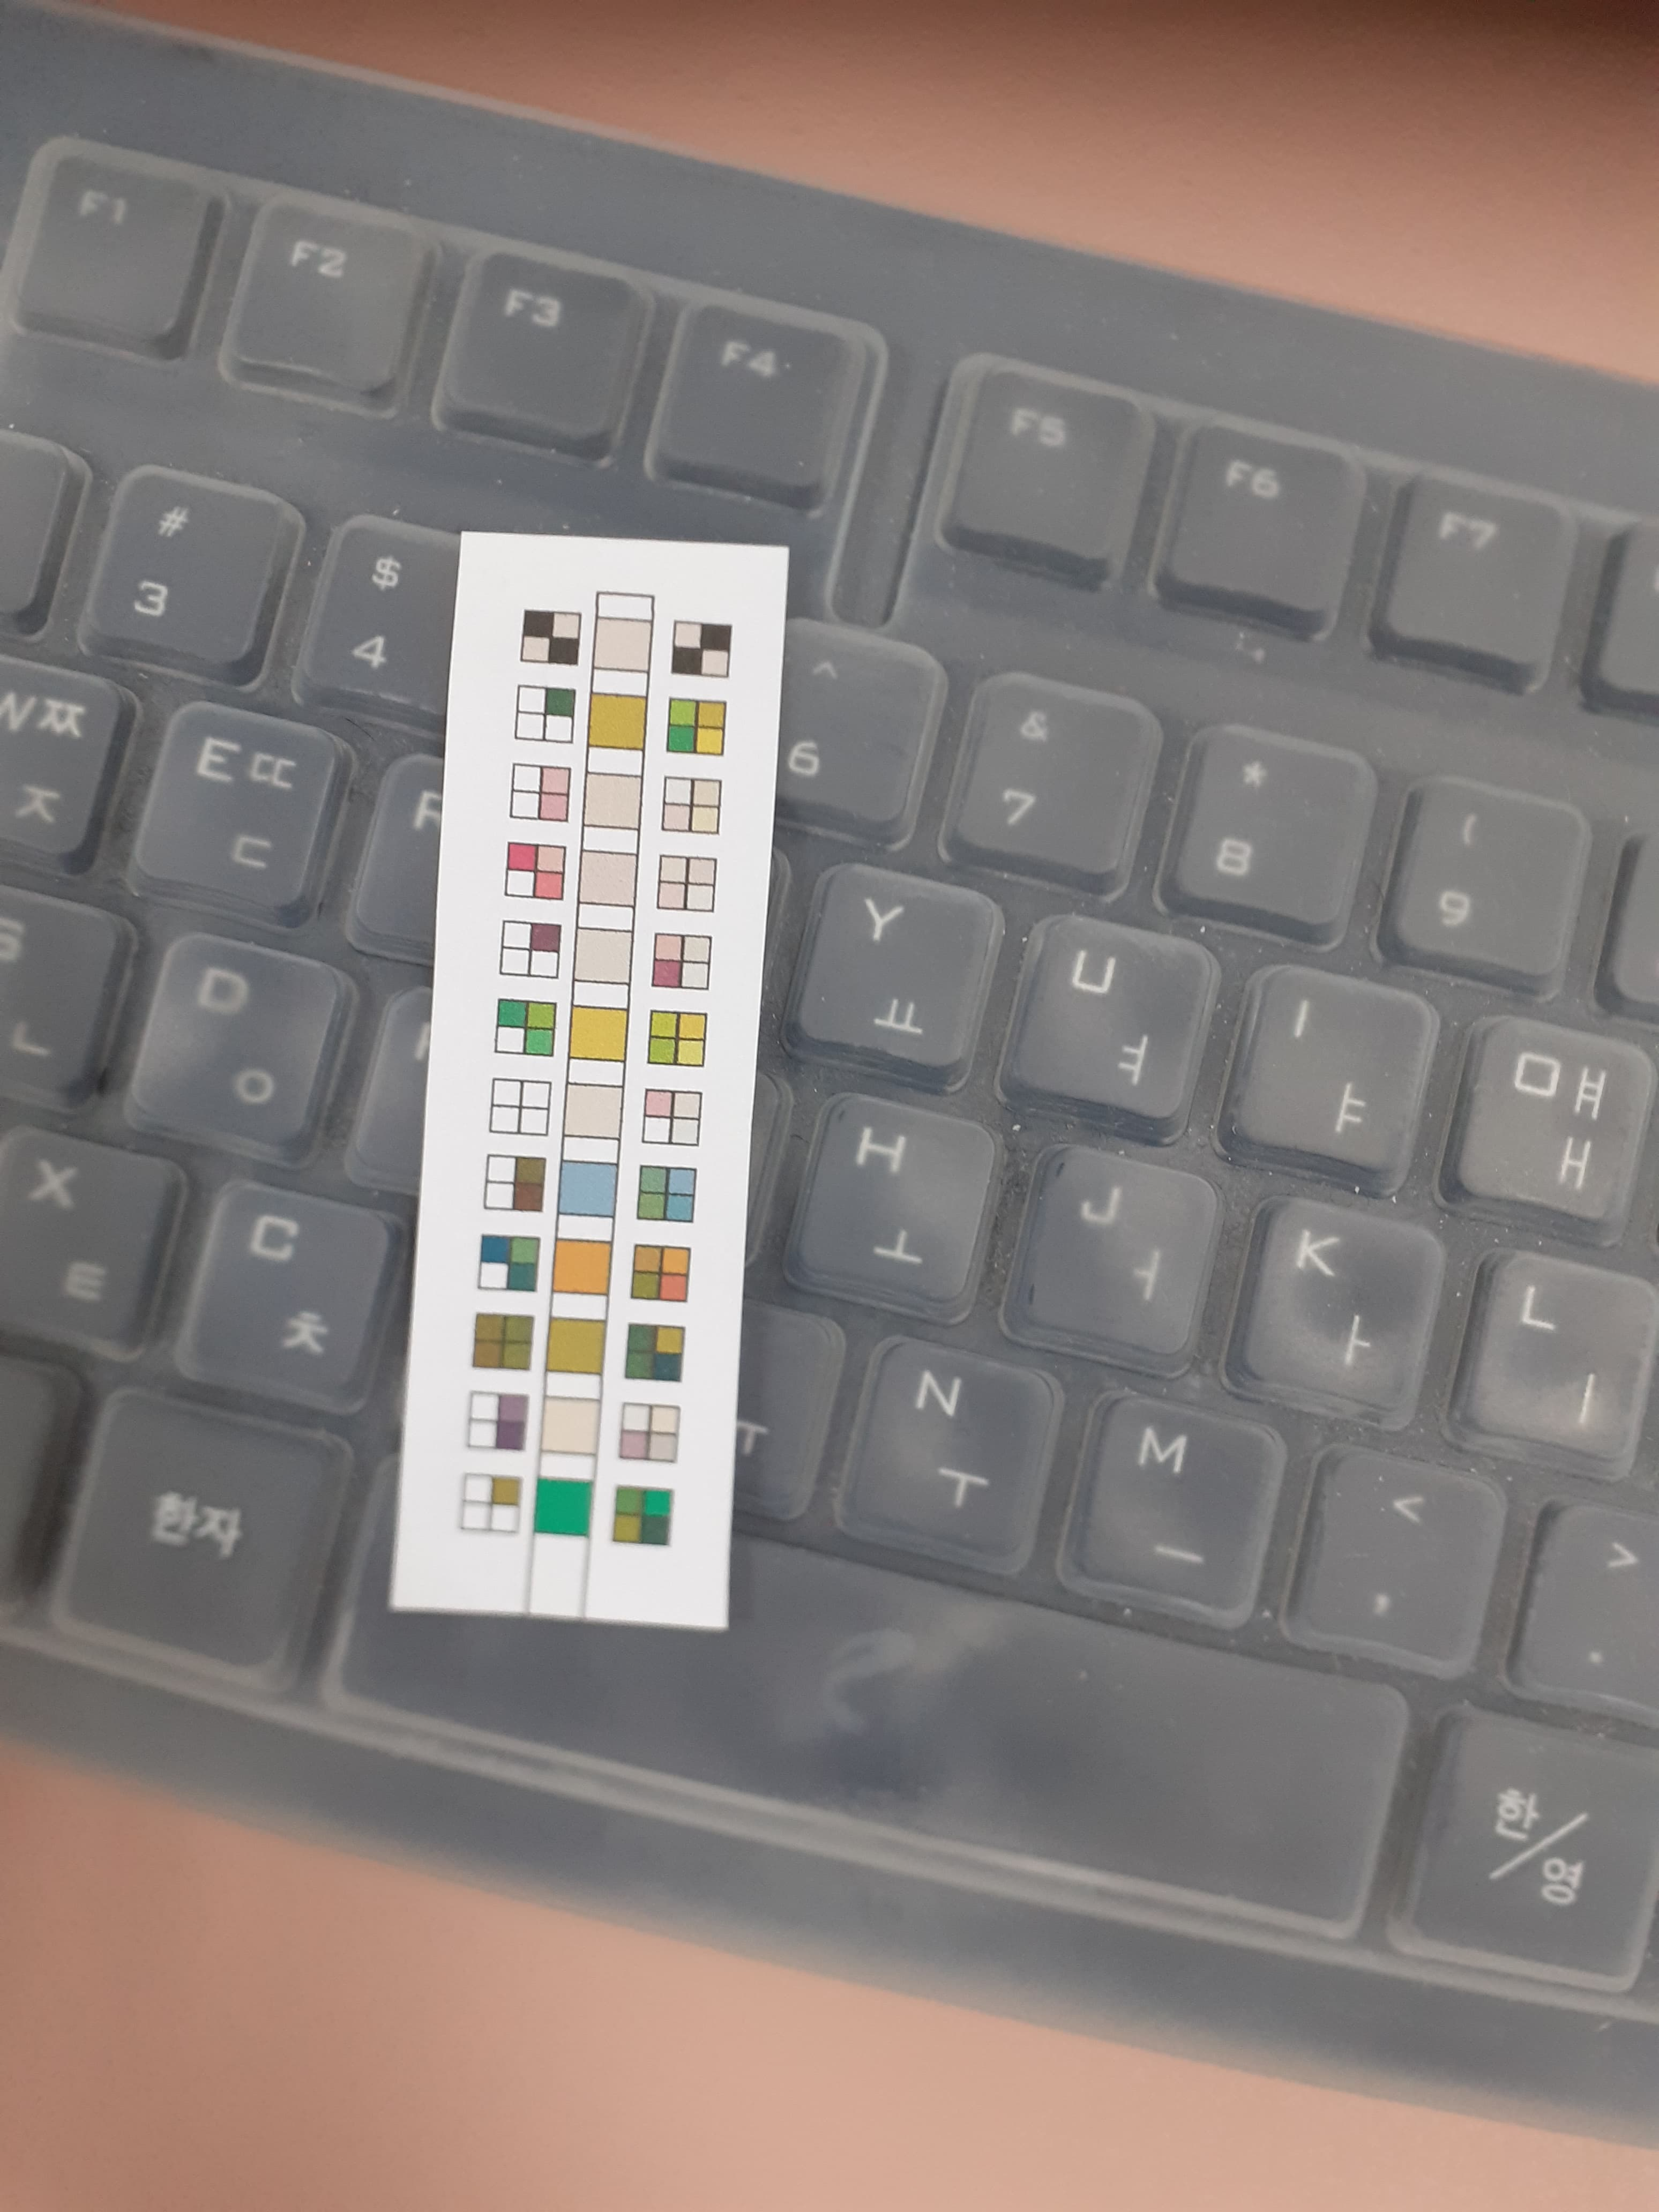tester: (460, 528, 742, 1632)
